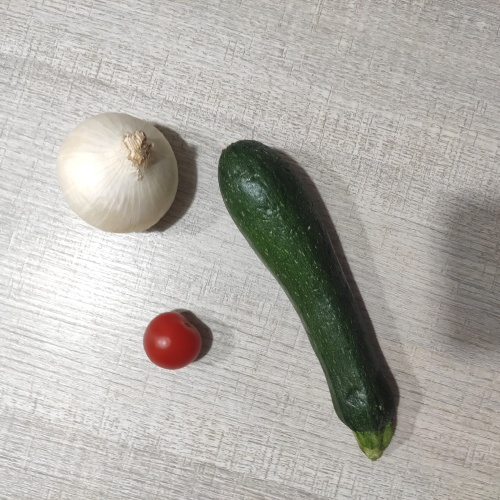cipolla: (59, 106, 183, 247)
pomodoro: (139, 309, 209, 374)
zucchine: (222, 135, 421, 455)
